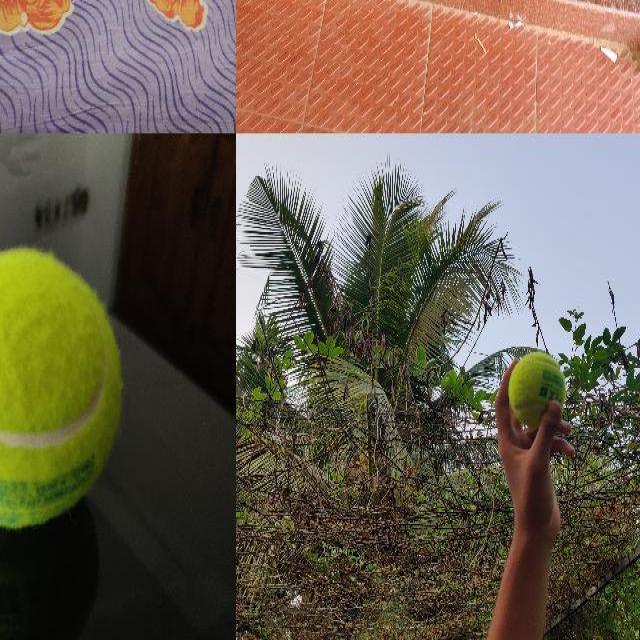tennis-ball: (0, 244, 123, 530), (507, 350, 566, 428)
